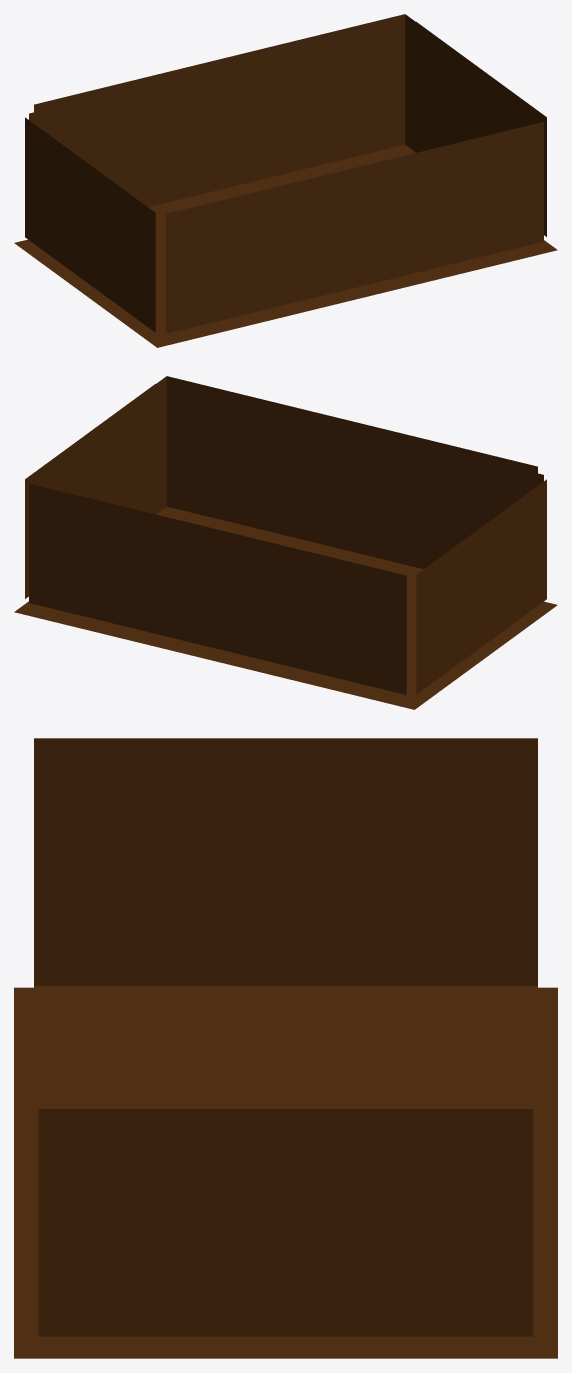
File: prop_wooden_chest.glb
3 renders of one model, top to bottom at view 1: azimuth 30°, elevation 25°; view 2: azimuth 150°, elevation 25°; view 3: azimuth 270°, elevation 25°, orthographic. The views are drawn at different scales.
Parts seen in each view (by area): view 1: Props with out snow_Wooden chest_0; view 2: Props with out snow_Wooden chest_0; view 3: Props with out snow_Wooden chest_0.
Boxes of the visible parts, <box> form: Props with out snow_Wooden chest_0: <box>14,14,557,347</box>; Props with out snow_Wooden chest_0: <box>14,376,557,709</box>; Props with out snow_Wooden chest_0: <box>14,738,557,1358</box>.
Bounding box in the file's own units: 2 × 0.6612 × 1.24.
